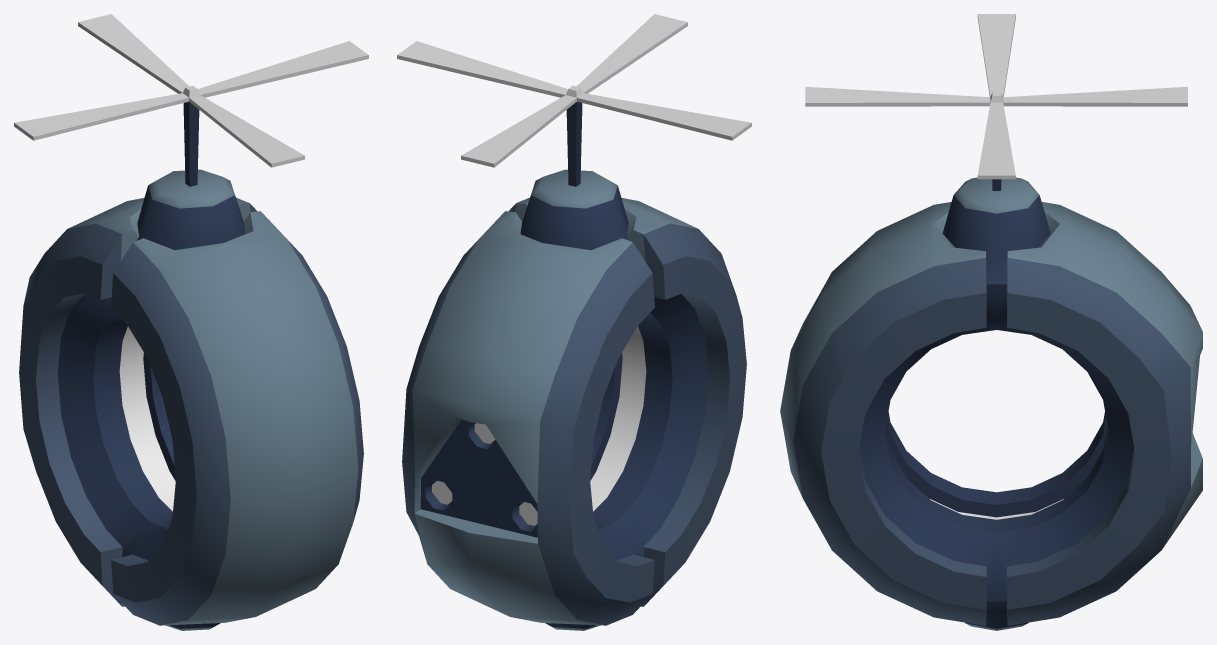
File: fbxCloneDrone.fbx
3 views of the same model, side by side, from view 1: azimuth 30°, elevation 25°; view 2: azimuth 150°, elevation 25°; view 3: azimuth 270°, elevation 25° (orthographic).
Parts seen in each view (by area): view 1: Drone, DroneRotor, DroneGlow; view 2: Drone, DroneRotor, DroneGlow; view 3: Drone, DroneRotor.
Boxes of the visible parts, x1=… form: Drone: x1=19, y1=101, x2=363, y2=630; DroneRotor: x1=14, y1=14, x2=368, y2=167; DroneGlow: x1=119, y1=326, x2=175, y2=511; Drone: x1=402, y1=101, x2=746, y2=630; DroneRotor: x1=397, y1=14, x2=751, y2=167; DroneGlow: x1=432, y1=326, x2=646, y2=525; Drone: x1=780, y1=177, x2=1202, y2=630; DroneRotor: x1=805, y1=14, x2=1187, y2=179.
Size of the model in its own units: 2.21 by 3.32 by 2.44.
